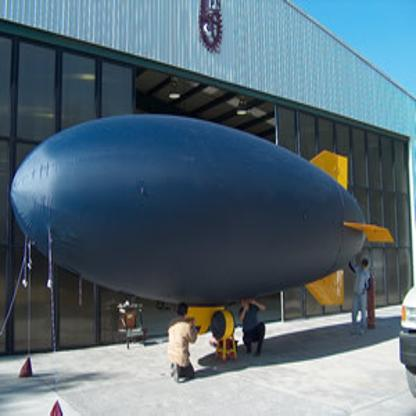Airship: (8, 118, 394, 343)
